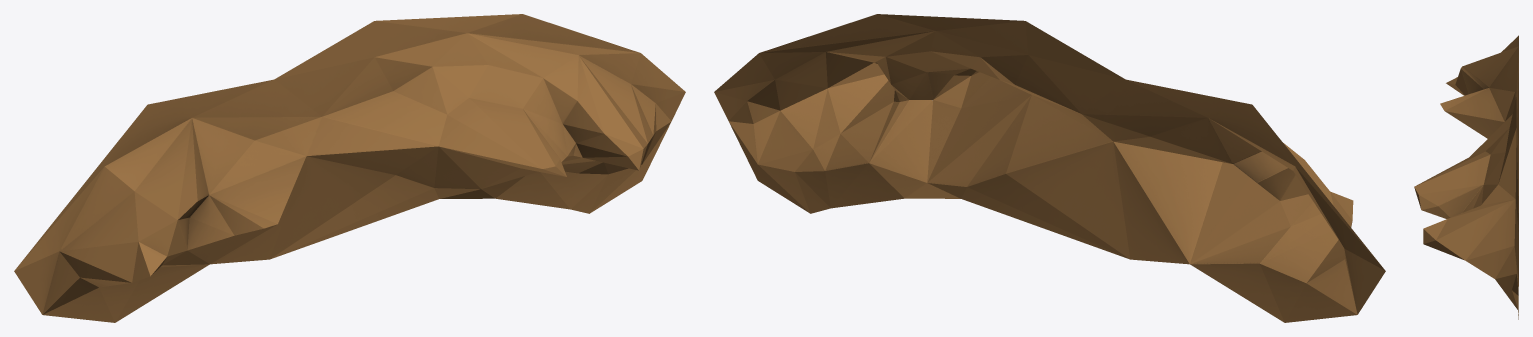
File: Mounth.fbx
3 renders of one model, left to right at view 1: azimuth 30°, elevation 25°; view 2: azimuth 150°, elevation 25°; view 3: azimuth 270°, elevation 25°, orthographic. The views are drawn at different scales.
Parts seen in each view (by area): view 1: Bg_Mountain000; view 2: Bg_Mountain000; view 3: Bg_Mountain000.
Part boxes in pixels (bbox=[...]): Bg_Mountain000: bbox=[14, 14, 685, 322]; Bg_Mountain000: bbox=[714, 14, 1385, 322]; Bg_Mountain000: bbox=[1414, 35, 1518, 319].
Size of the model in its own units: 6378 by 2226 by 1222.
